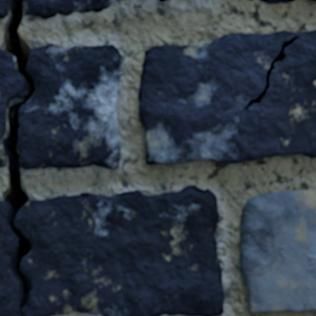brick: (139, 30, 315, 163), (240, 190, 315, 310), (263, 0, 292, 2), (159, 0, 166, 2)
broken_brick: (15, 184, 225, 315), (19, 43, 121, 170), (0, 200, 18, 315), (24, 0, 124, 20), (0, 46, 21, 133), (0, 144, 6, 168), (0, 0, 7, 19)
crack: (0, 0, 36, 315)
